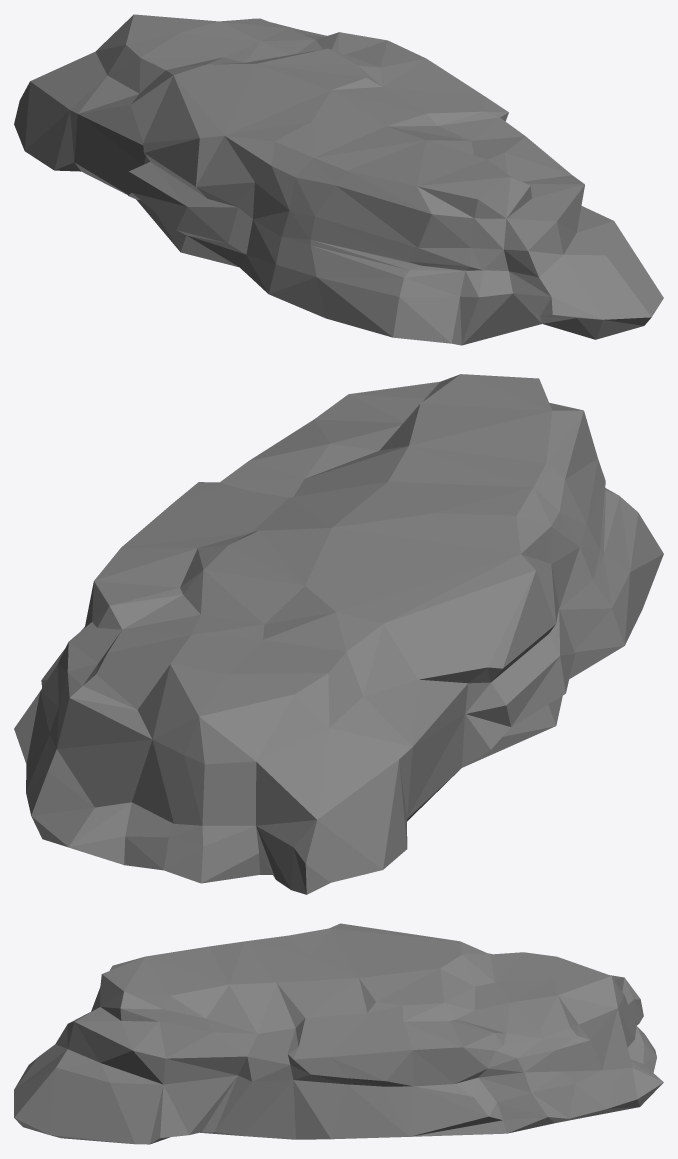
The model's file is model_polytope_rock_flat01.fbx.
3 views of the same model, one above another, from view 1: azimuth 30°, elevation 25°; view 2: azimuth 150°, elevation 25°; view 3: azimuth 270°, elevation 25° (orthographic). The views are drawn at different scales.
Visible parts, largest first — view 1: model_polytope_rock_flat01; view 2: model_polytope_rock_flat01; view 3: model_polytope_rock_flat01.
Boxes of the visible parts, box(x1,y1,x2,y2) form: model_polytope_rock_flat01: box(14, 14, 663, 345); model_polytope_rock_flat01: box(14, 374, 663, 894); model_polytope_rock_flat01: box(14, 923, 663, 1144).
Bounding box in the file's own units: 696 × 272 × 1389.
1 material, 1 textured.
